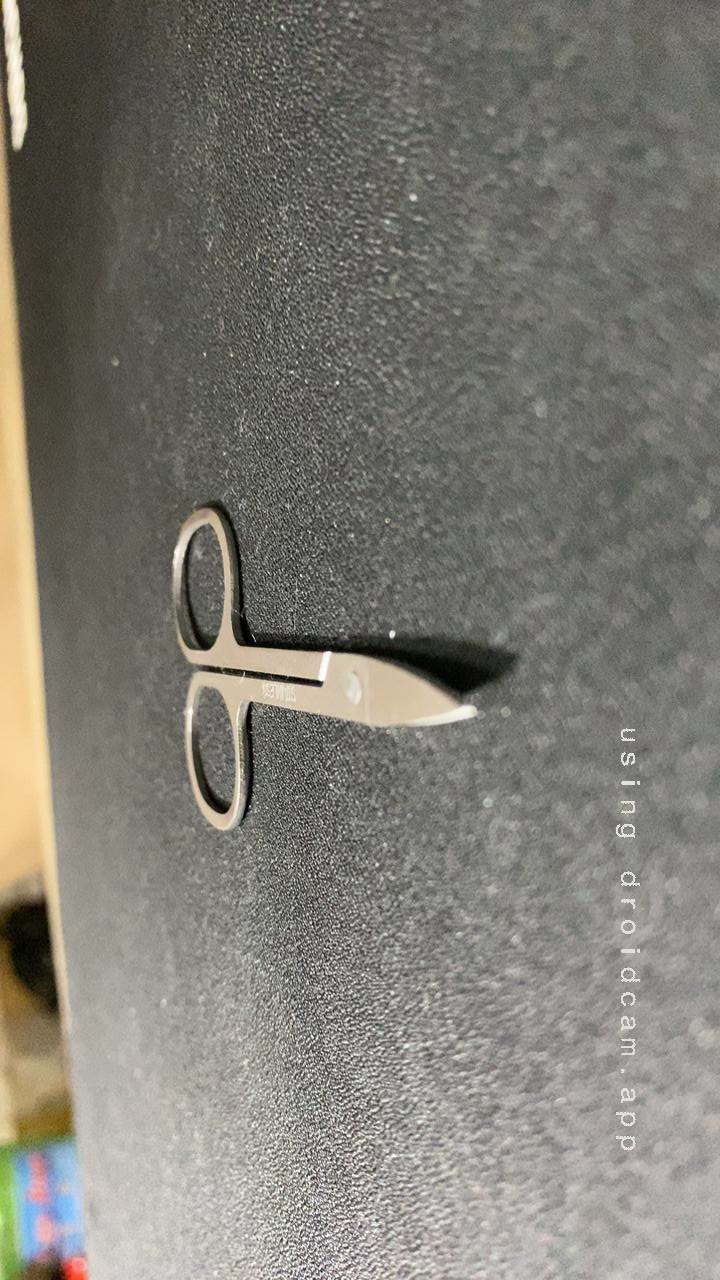scissor: (47, 467, 341, 734)
